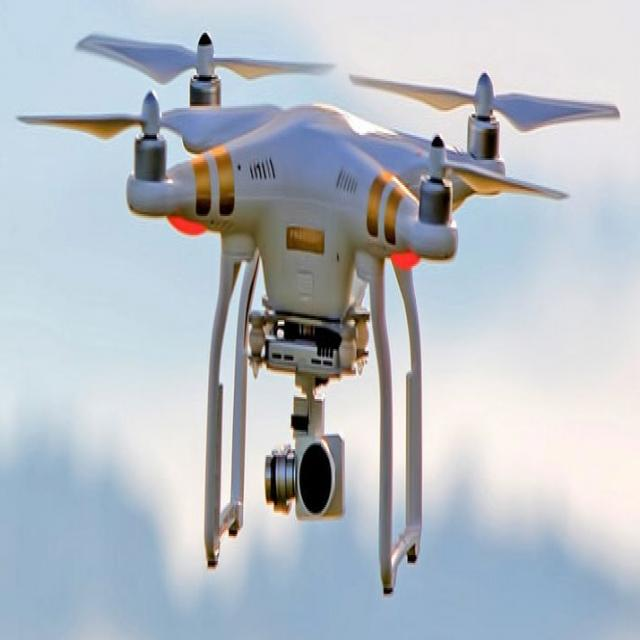drone: (13, 18, 629, 615)
